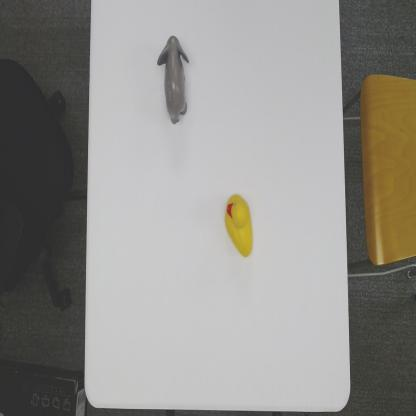Duck: (224, 190, 254, 259)
Elephant: (156, 33, 191, 128)
